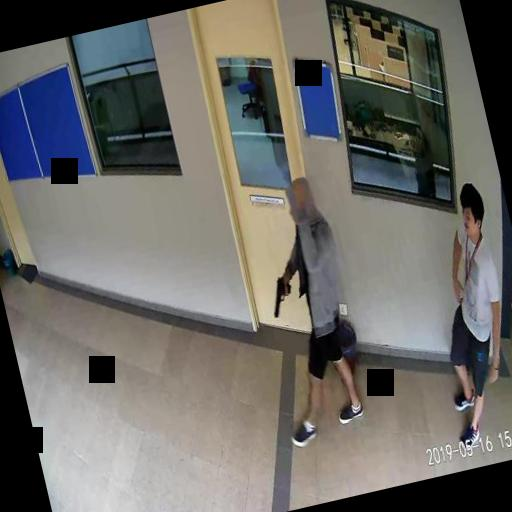Handgun: (266, 274, 296, 316)
